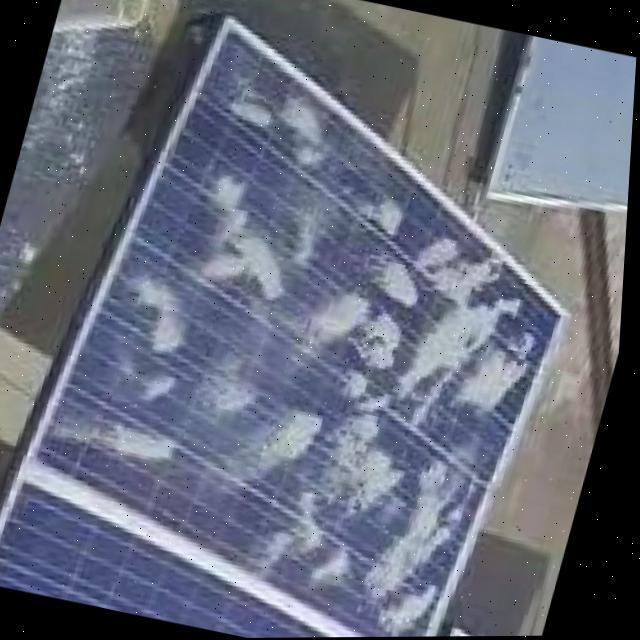Anomaly Solar Panel: (0, 26, 629, 638)
Snow: (267, 179, 546, 460), (250, 402, 443, 617), (359, 432, 500, 637), (178, 158, 346, 312), (227, 58, 355, 185), (103, 270, 208, 406), (219, 389, 337, 501), (454, 312, 545, 424), (53, 406, 194, 474), (192, 339, 281, 430), (361, 186, 422, 244)
